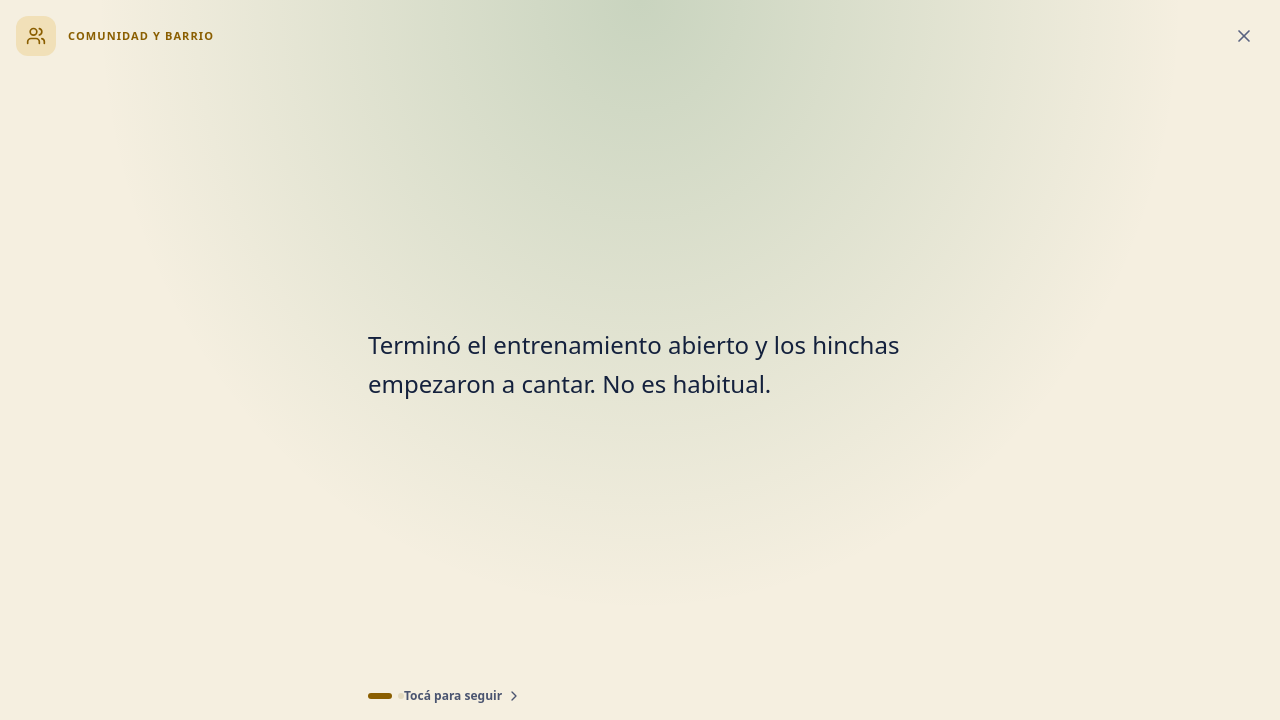
Test: decisiones sueltas del club a pantalla completa › un evento suelto se lee de a momentos igual que una historia
Later steps or results of the test are not shown.
Expected: the text "Terminó el entrenamiento abierto y los hinchas empezaron a cantar. No es habitual." is shown, [368,328,899,400]
Expected: the text "camiseta puesta esperando una foto" is not shown
Click the button with aria-label "Seguir leyendo". click: (640, 666)
box: [368,64,912,704]
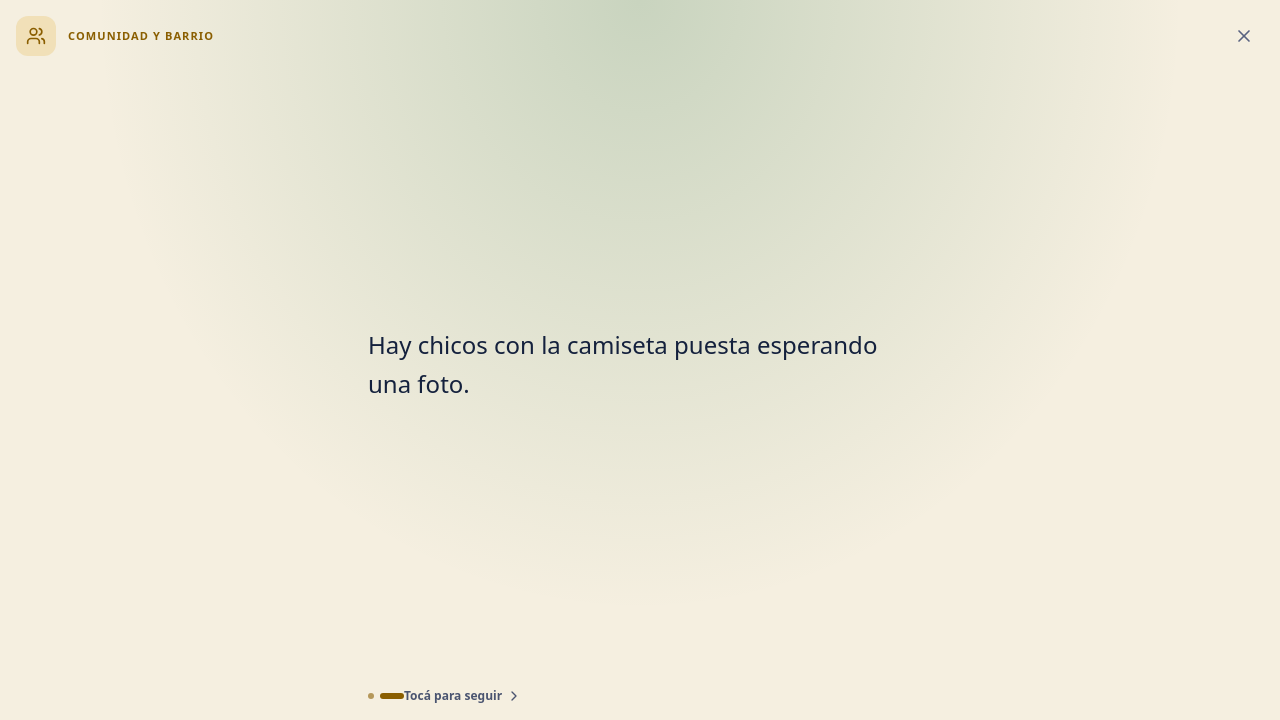
Expected: the text "Hay chicos con la camiseta puesta esperando una foto." is shown, [368,325,912,403]
